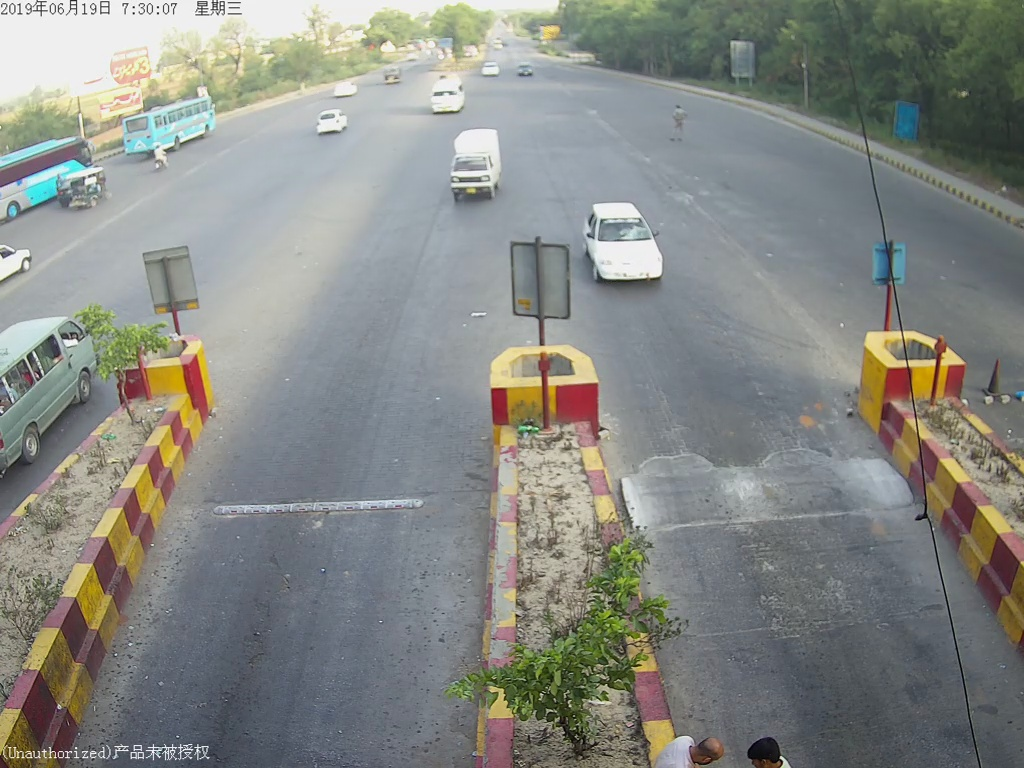Cat-1: (581, 202, 667, 286), (440, 129, 512, 202)
